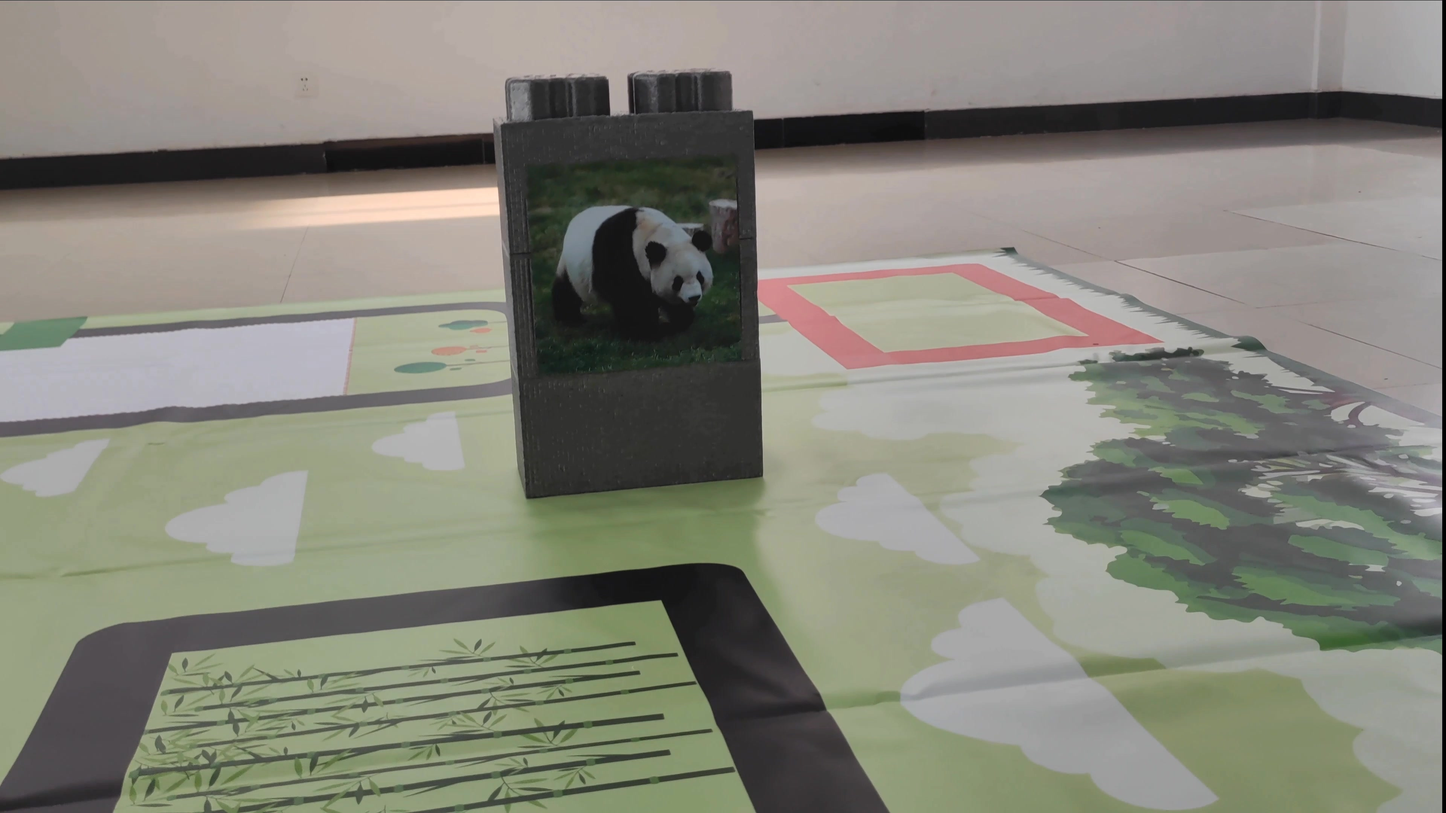panda: (540, 172, 740, 344)
